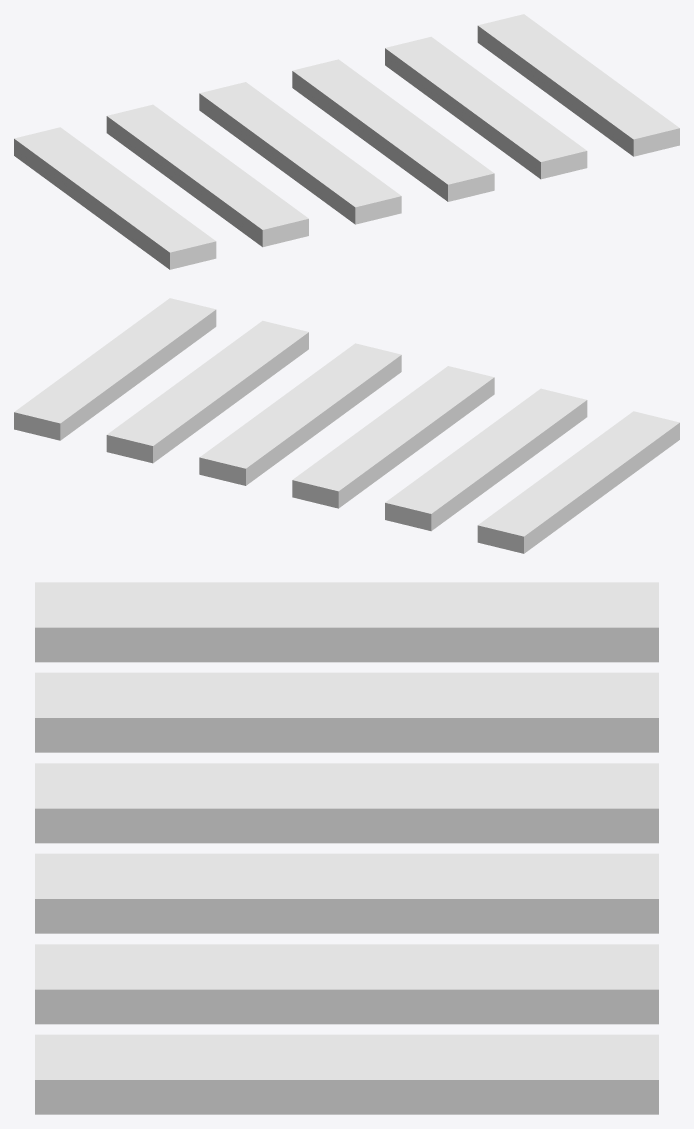
File: prp_12.fbx
3 views of the same model, one above another, from view 1: azimuth 30°, elevation 25°; view 2: azimuth 150°, elevation 25°; view 3: azimuth 270°, elevation 25° (orthographic). The views are drawn at different scales.
Visible parts, largest first — view 1: pCube11; view 2: pCube11; view 3: pCube11.
Boxes of the visible parts, x1=… form: pCube11: x1=14, y1=14, x2=679, y2=269; pCube11: x1=14, y1=298, x2=679, y2=553; pCube11: x1=35, y1=582, x2=658, y2=1114.
Size of the model in its own units: 657 by 21.27 by 348.
